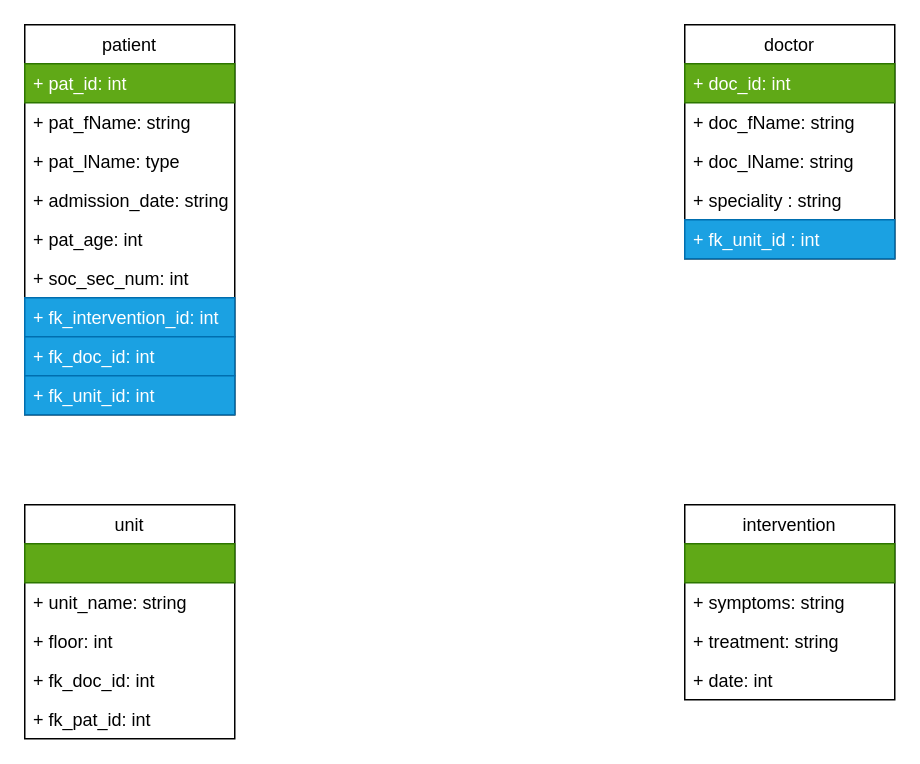
Image size: 920x764. Some labels were removed from this diagram. Here are the shapes that lost their labels. From the top down, the centre of each, then its label:
At (x=129, y=562): "+ unit_id: int".
At (x=789, y=562): "+ intervention_id: int".
